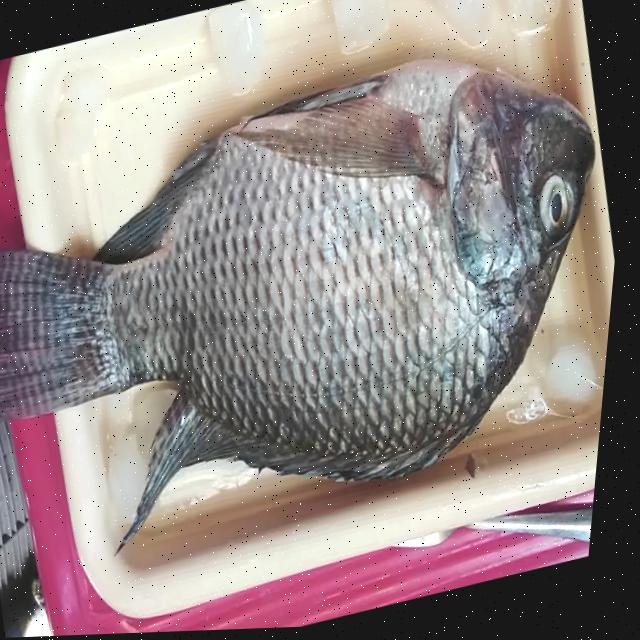Fresh: (128, 49, 582, 505), (523, 150, 605, 270)
